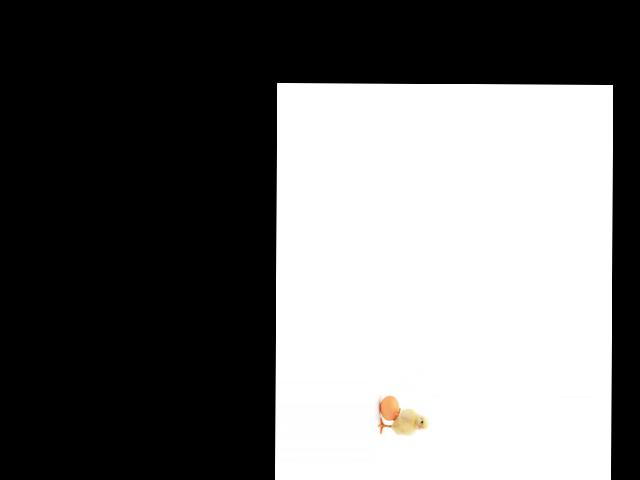egg: (380, 395, 399, 421)
